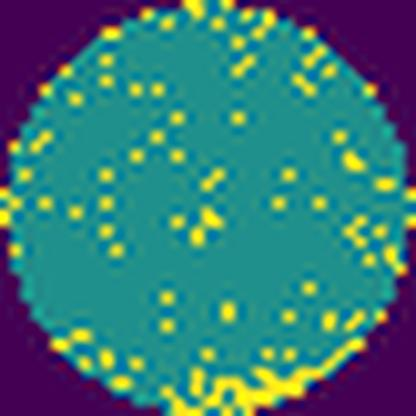Edge-Loc: (160, 337, 370, 416)
